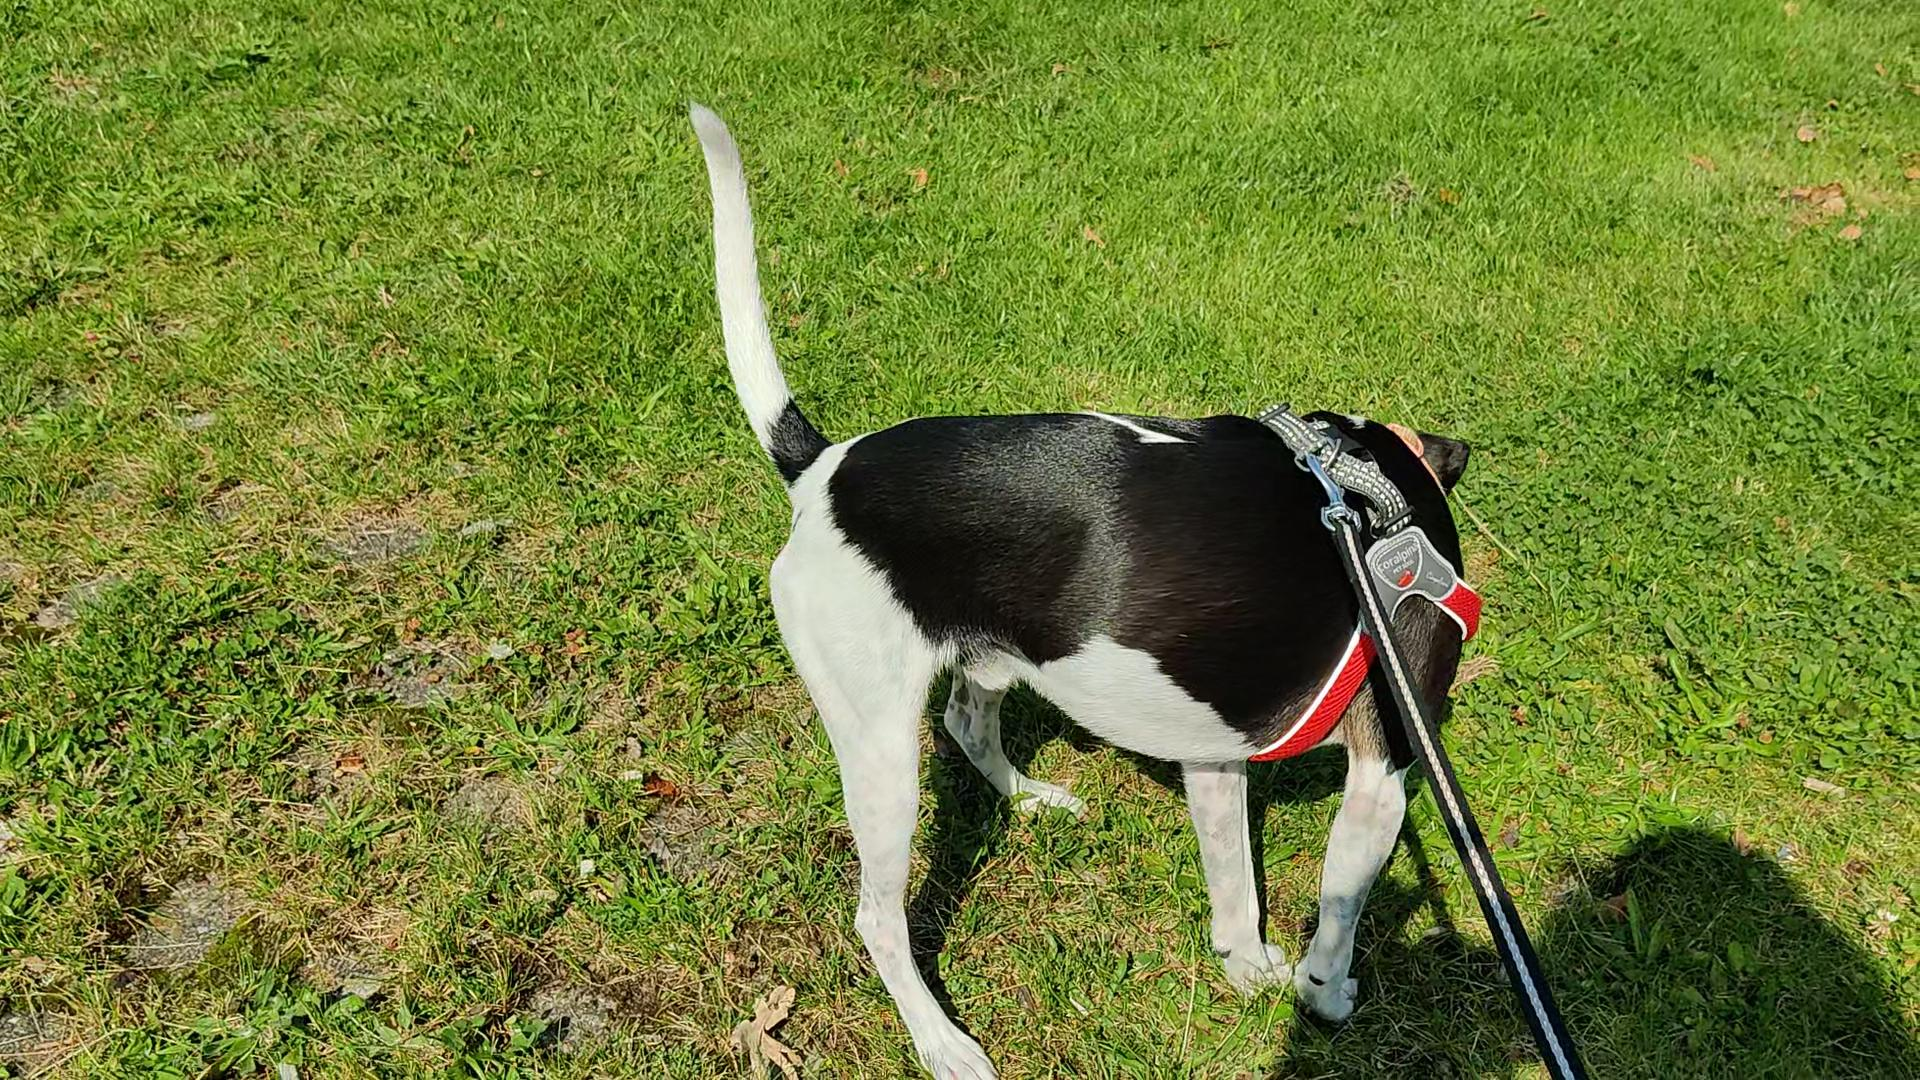Dog: (678, 91, 1491, 1079)
